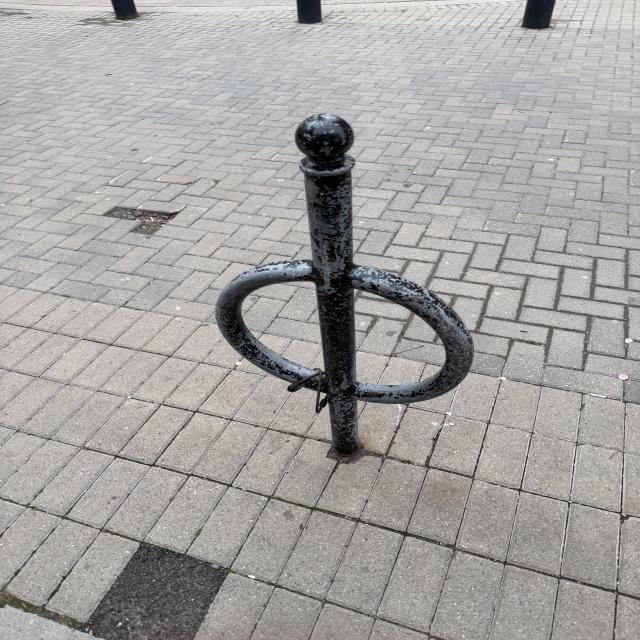Bicycle Rack: (216, 112, 473, 458)
